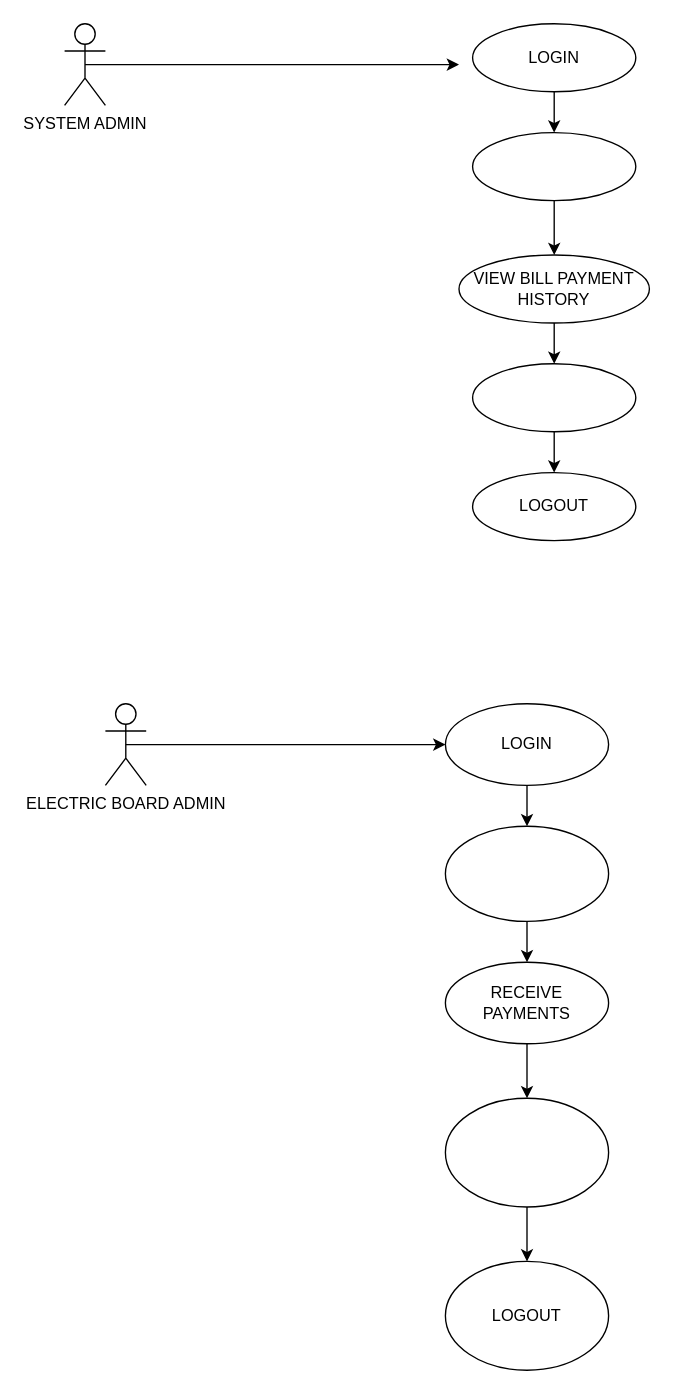
This 673x1394 diagram has some shape labels left out. Here are the shapes that lost their labels. From the top down, the box of each, then its label:
(471, 131, 636, 201): VIEW USERS
(471, 362, 636, 432): RECEIVE FEEDBACK/ISSUES
(444, 825, 609, 921): SEE CUSTOMERS BILL PAYMENT HISTORY
(444, 1097, 609, 1207): RECEVE FEEDBACKS / ISSUES
